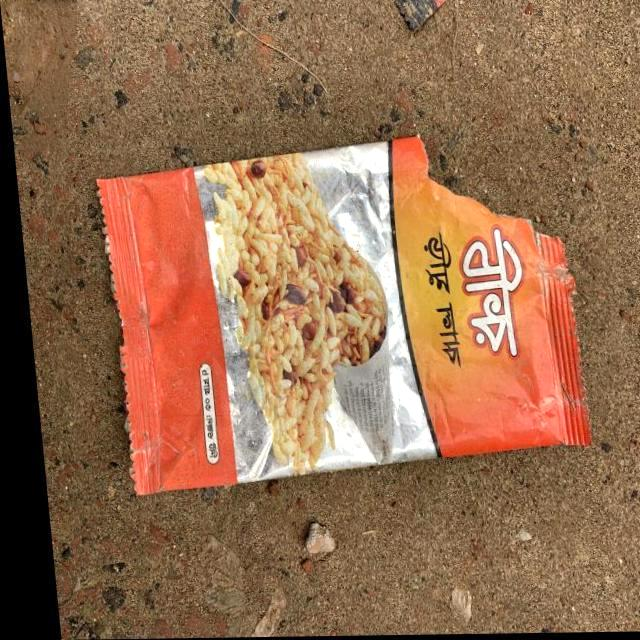packet: (87, 142, 581, 474)
